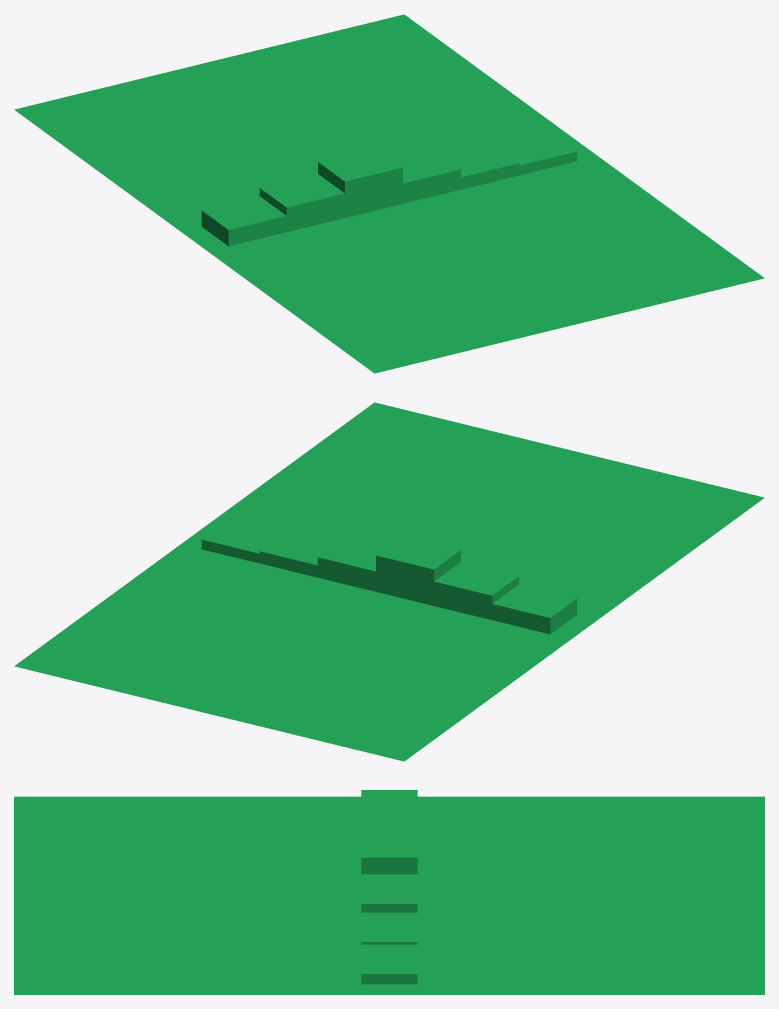
The model's file is Obstáculo.obj.
3 views of the same model, one above another, from view 1: azimuth 30°, elevation 25°; view 2: azimuth 150°, elevation 25°; view 3: azimuth 270°, elevation 25° (orthographic). The views are drawn at different scales.
Parts seen in each view (by area): view 1: Plane003; view 2: Plane003; view 3: Plane003.
Boxes of the visible parts, box(x1,y1,x2,y2) form: Plane003: box(14, 14, 764, 373); Plane003: box(14, 402, 764, 761); Plane003: box(14, 790, 764, 994).
Size of the model in its own units: 5 by 0.4461 by 8.
